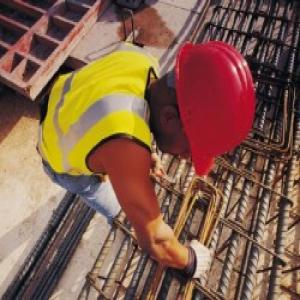red: (155, 40, 257, 178)
